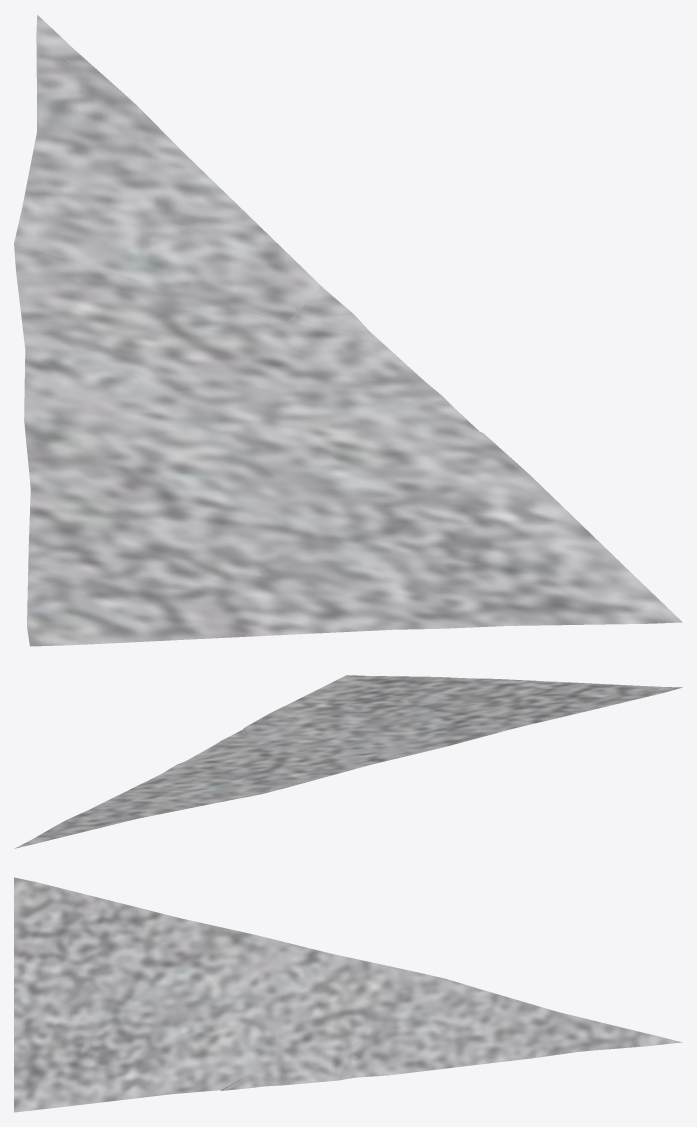
3 renders of one model, top to bottom at view 1: azimuth 30°, elevation 25°; view 2: azimuth 150°, elevation 25°; view 3: azimuth 270°, elevation 25°, orthographic. The views are drawn at different scales.
Bounding box in the file's own units: 0.8852 × 0.1753 × 1.52.
Materials: 1 (1 with a texture image).
